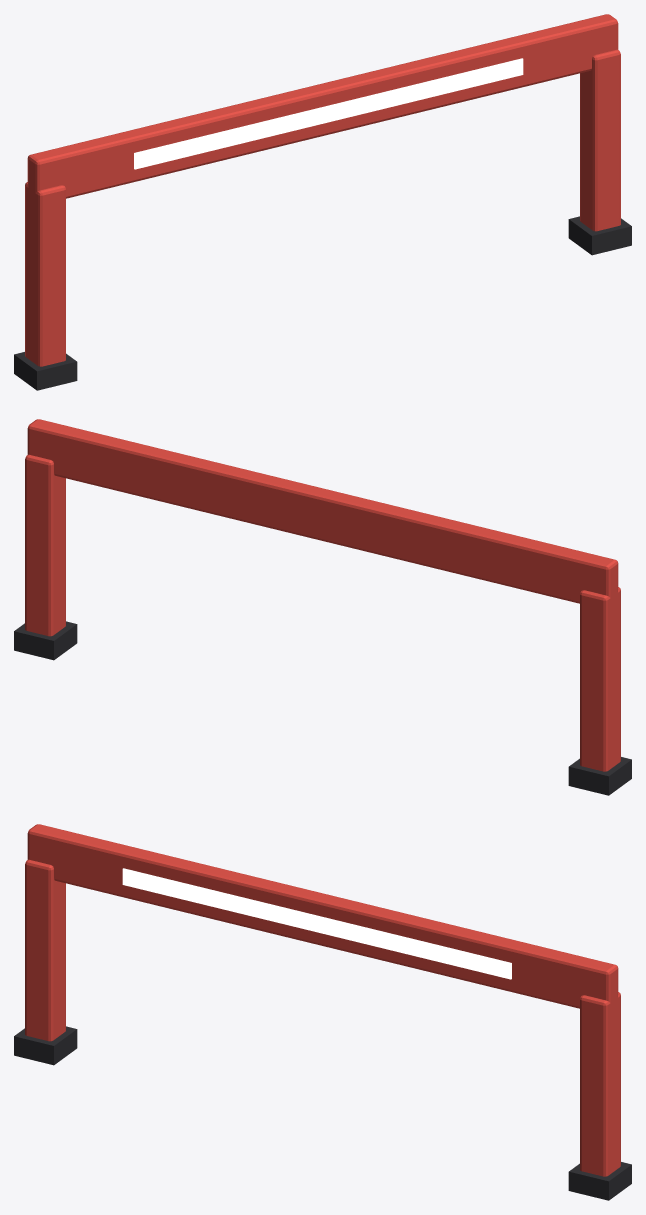
File: gate_zone.glb
3 renders of one model, top to bottom at view 1: azimuth 30°, elevation 25°; view 2: azimuth 150°, elevation 25°; view 3: azimuth 330°, elevation 25°, orthographic.
Visible parts, largest first — view 1: Gate.004; view 2: Gate.004; view 3: Gate.004.
Part boxes in pixels (left/top/right/bottom): Gate.004: left=14, top=14, right=631, bottom=390; Gate.004: left=14, top=419, right=631, bottom=795; Gate.004: left=14, top=824, right=631, bottom=1200.
Bounding box in the file's own units: 19.3 × 6.9 × 1.3.
